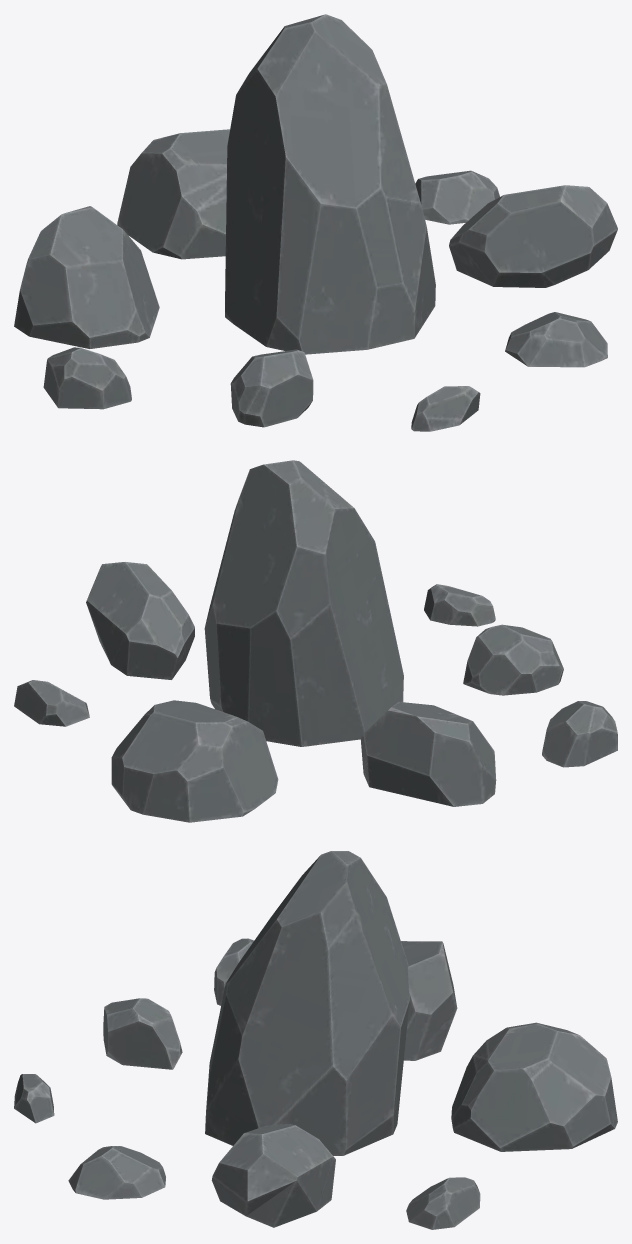
File: rocks.glb
The picture shows the model from 3 angles, top to bottom: view 1: azimuth 30°, elevation 25°; view 2: azimuth 150°, elevation 25°; view 3: azimuth 270°, elevation 25°; orthographic projection. The views are drawn at different scales.
Visible parts, largest first — view 1: defaultMaterial; view 2: defaultMaterial; view 3: defaultMaterial.
Part boxes in pixels (x1,y1,x2,y2): defaultMaterial: (14, 14, 617, 431); defaultMaterial: (14, 460, 617, 822); defaultMaterial: (14, 851, 617, 1229).
Bounding box in the file's own units: 2 × 0.9427 × 1.93.
1 material, 1 textured.
